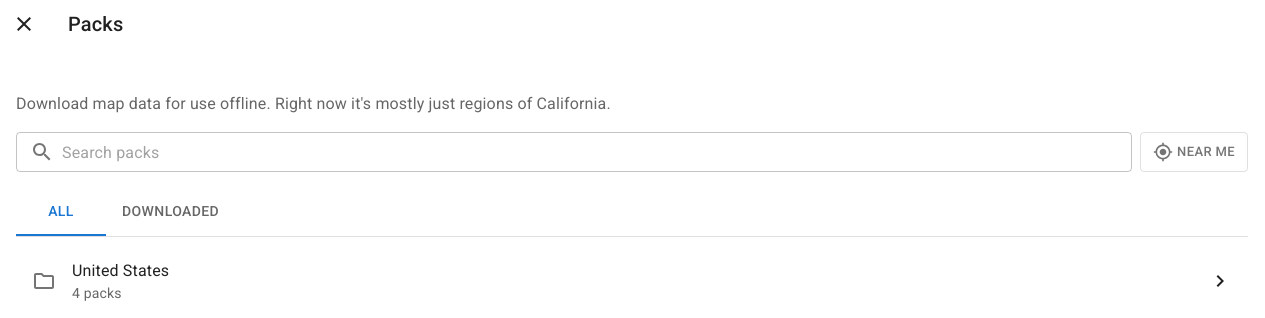
Test: Packs › near me › says when no packs cover the location
The image size is (1265, 318).
Expected: the text "United States" is shown, [72,261,169,280]
Click the button "Near me".
click(1194, 152)  # box [1140,132,1248,172]
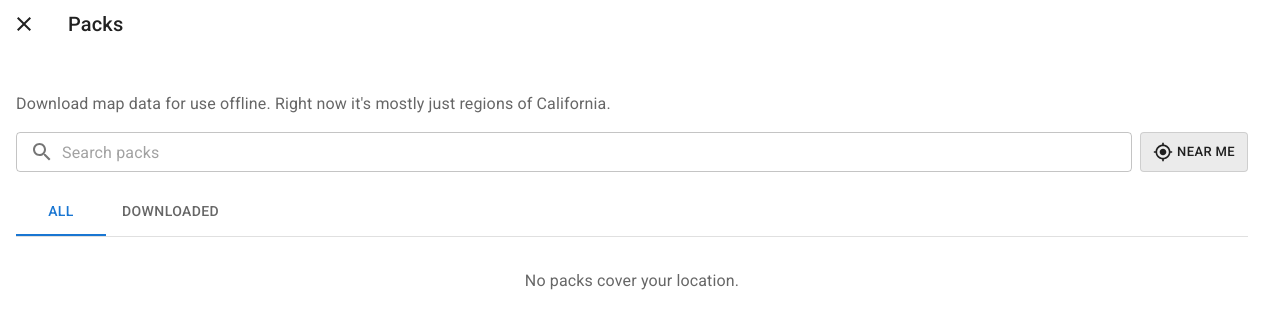
Expected: the text "No packs cover your location." is shown, [525,271,739,290]
